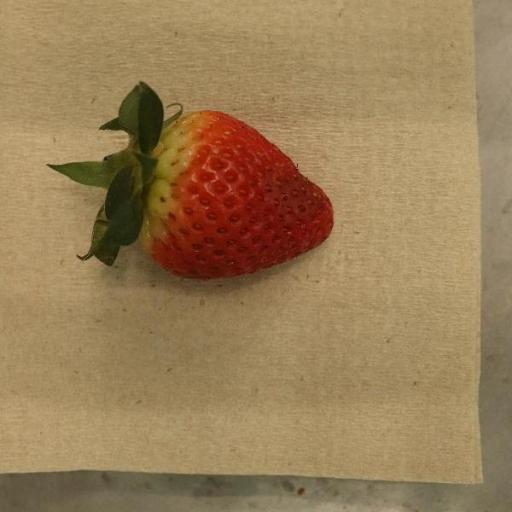Strawberry: (49, 82, 334, 281)
